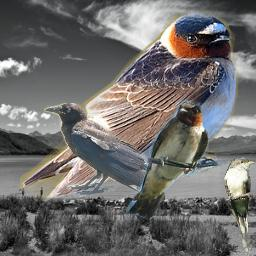Crow: (44, 103, 165, 200)
Cuckoo: (224, 157, 255, 255)
Swallow: (20, 12, 239, 206), (125, 100, 209, 220)
